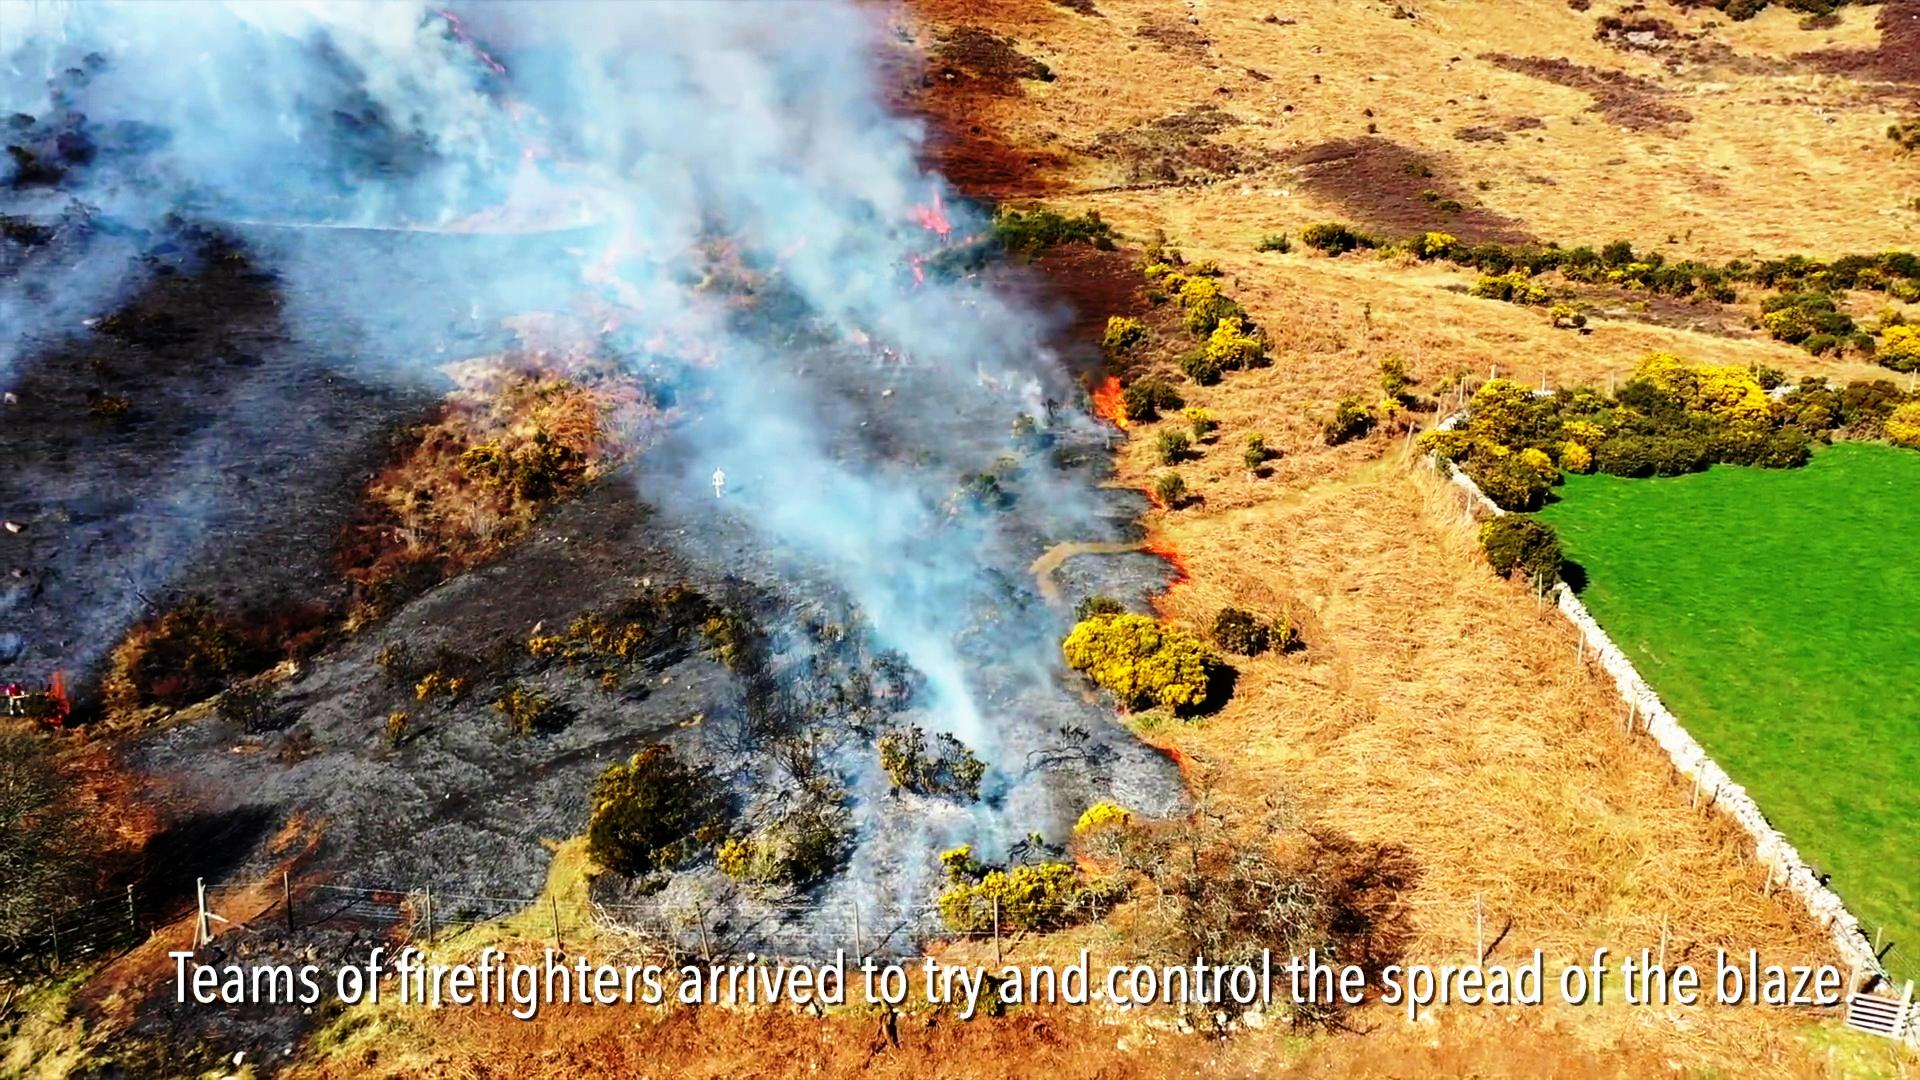smoke: (58, 0, 827, 167), (617, 0, 851, 323)
